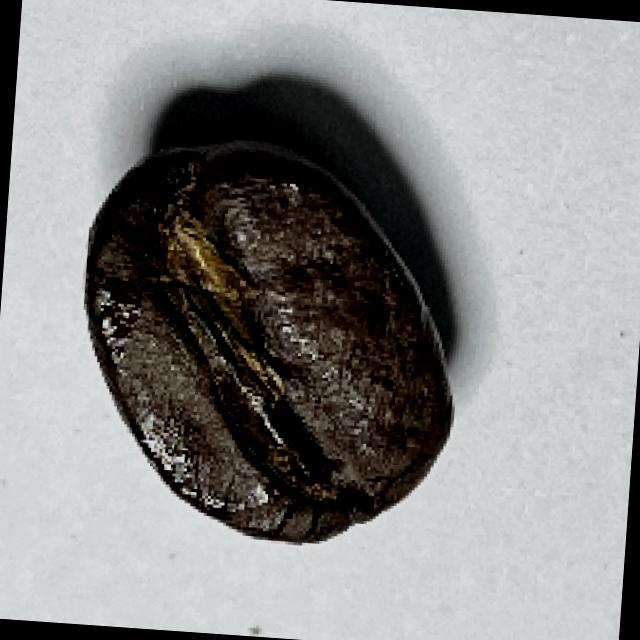bean: (64, 130, 471, 556)
